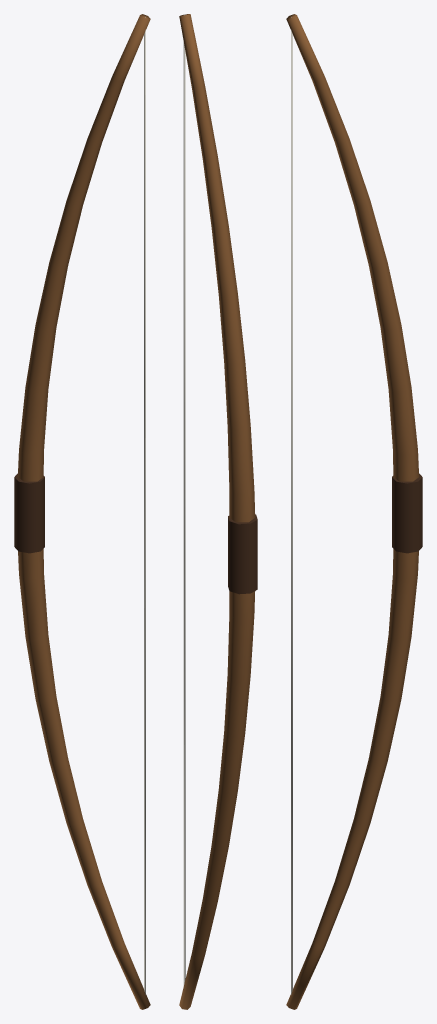
File: longbow.glb
3 views of the same model, side by side, from view 1: azimuth 90°, elevation 25°; view 2: azimuth 210°, elevation 25°; view 3: azimuth 270°, elevation 25° (orthographic).
Parts seen in each view (by area): view 1: longbow; view 2: longbow; view 3: longbow.
Boxes of the visible parts, left/top/right/bottom form: longbow: left=14, top=14, right=150, bottom=1009; longbow: left=179, top=14, right=257, bottom=1009; longbow: left=286, top=14, right=422, bottom=1009.
Size of the model in its own units: 0.048 by 1.71 by 0.2124.
